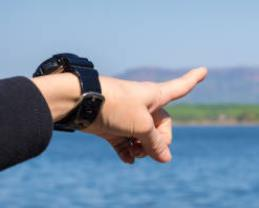up: (94, 62, 209, 161)
